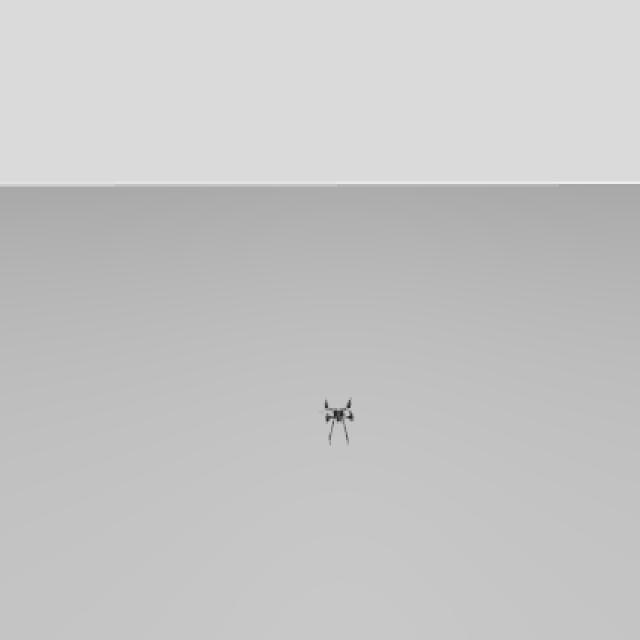drone: (322, 388, 361, 453)
